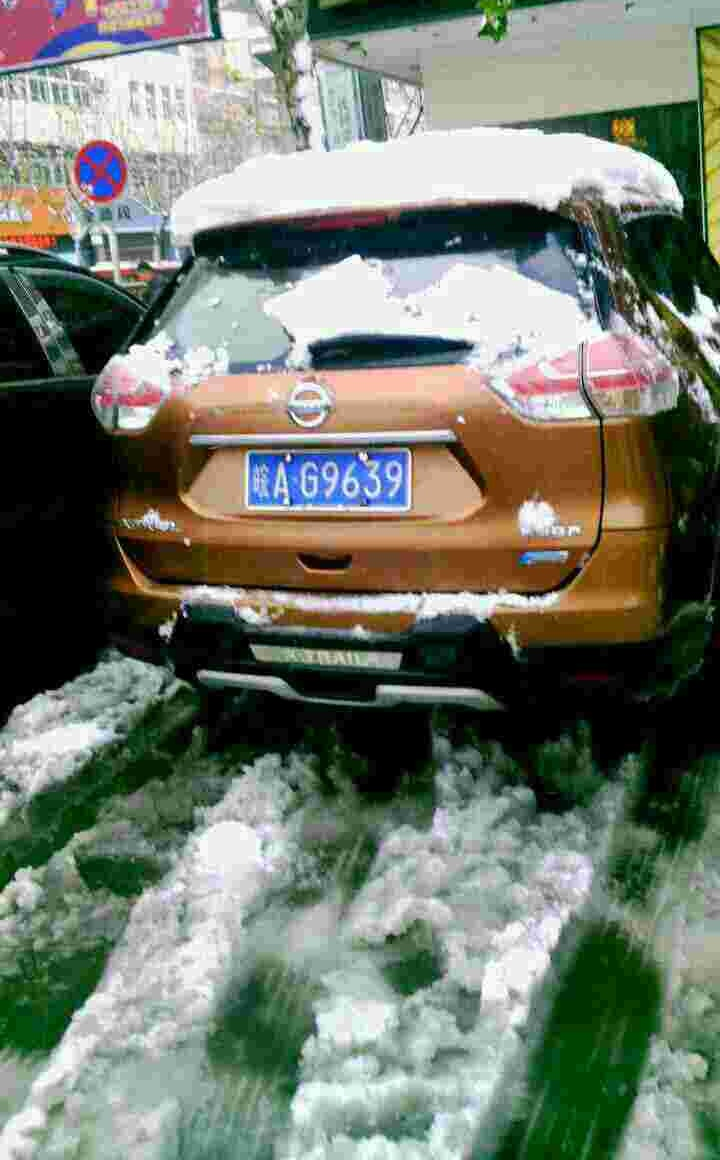plate: (229, 423, 442, 539)
